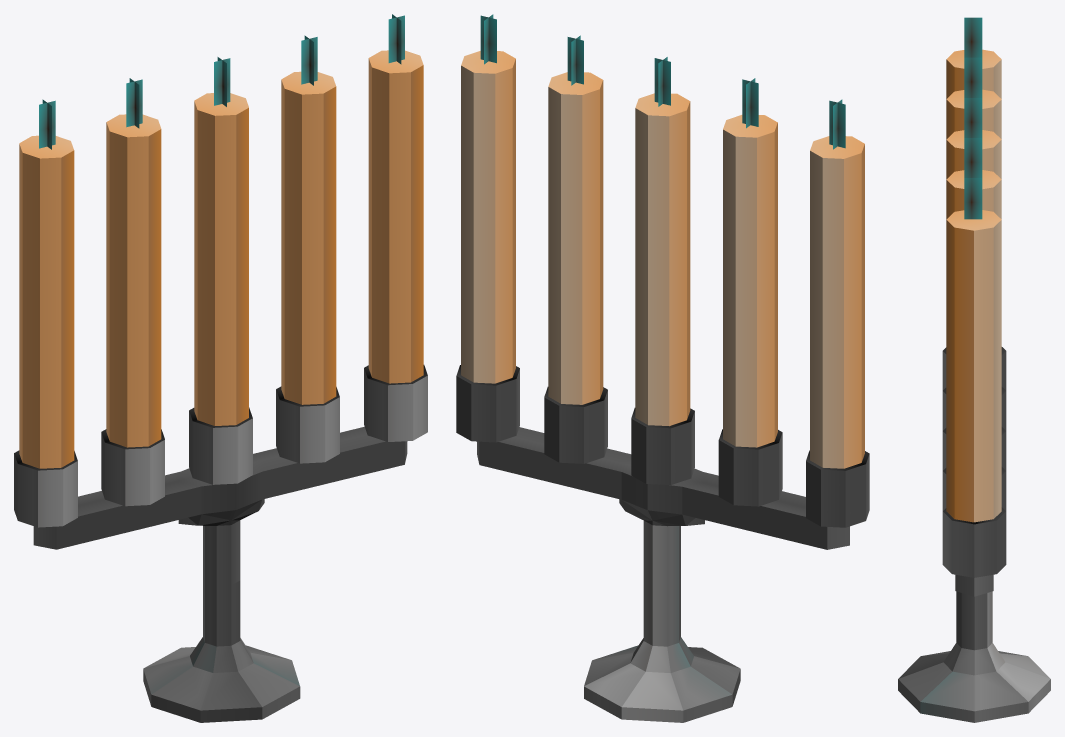
The model's file is candle_336x03.obj.
3 views of the same model, side by side, from view 1: azimuth 30°, elevation 25°; view 2: azimuth 150°, elevation 25°; view 3: azimuth 270°, elevation 25° (orthographic). The views are drawn at different scales.
Visible parts, largest first — view 1: candle_336x3; view 2: candle_336x3; view 3: candle_336x3.
Part boxes in pixels (bbox=[...]): candle_336x3: bbox=[14, 14, 427, 722]; candle_336x3: bbox=[456, 14, 869, 722]; candle_336x3: bbox=[898, 17, 1050, 722].
Size of the model in its own units: 0.6974 by 1.03 by 0.2414.
